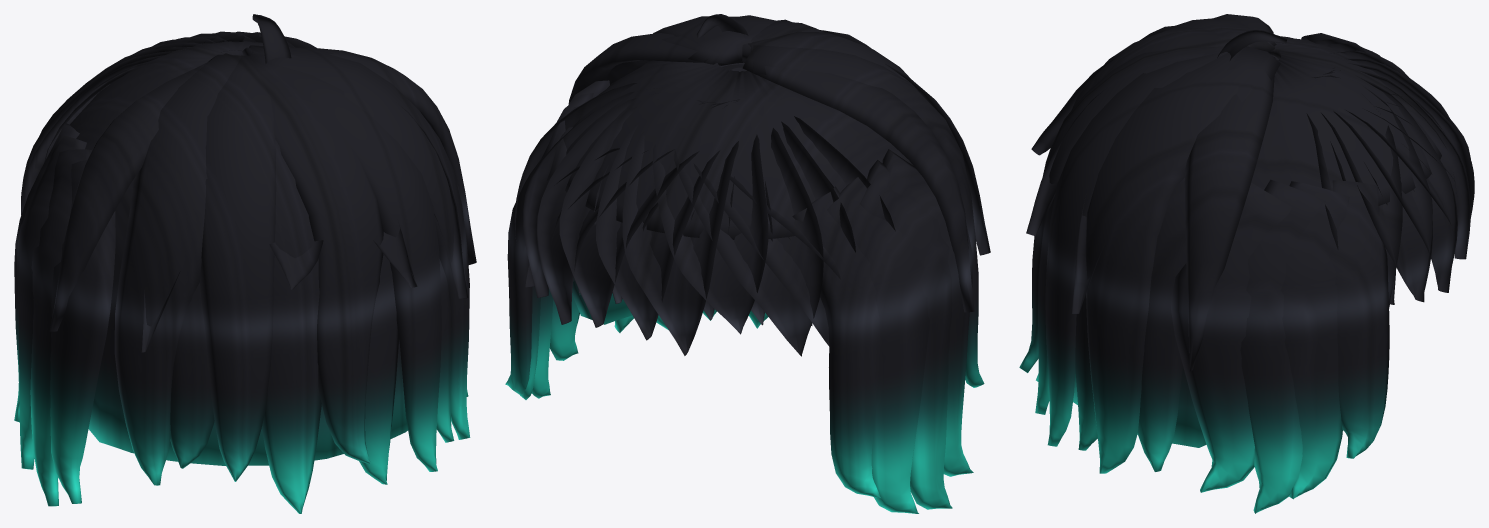
File: nyx_hair.fbx
3 renders of one model, left to right at view 1: azimuth 30°, elevation 25°; view 2: azimuth 150°, elevation 25°; view 3: azimuth 270°, elevation 25°, orthographic. The views are drawn at different scales.
Visible parts, largest first — view 1: NyxHair; view 2: NyxHair; view 3: NyxHair.
Part boxes in pixels (x1,y1,x2,y2): NyxHair: (14, 14, 476, 513); NyxHair: (505, 14, 990, 513); NyxHair: (1019, 14, 1474, 513).
Bounding box in the file's own units: 181 × 181 × 177.
Materials: 1 (1 with a texture image).
